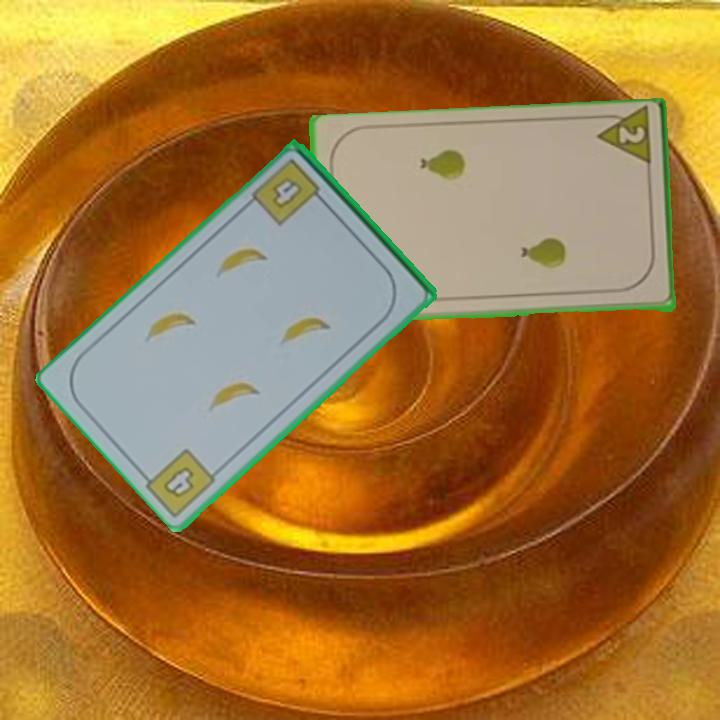2p: (615, 123, 648, 147)
4b: (248, 155, 330, 229), (159, 463, 197, 502)
